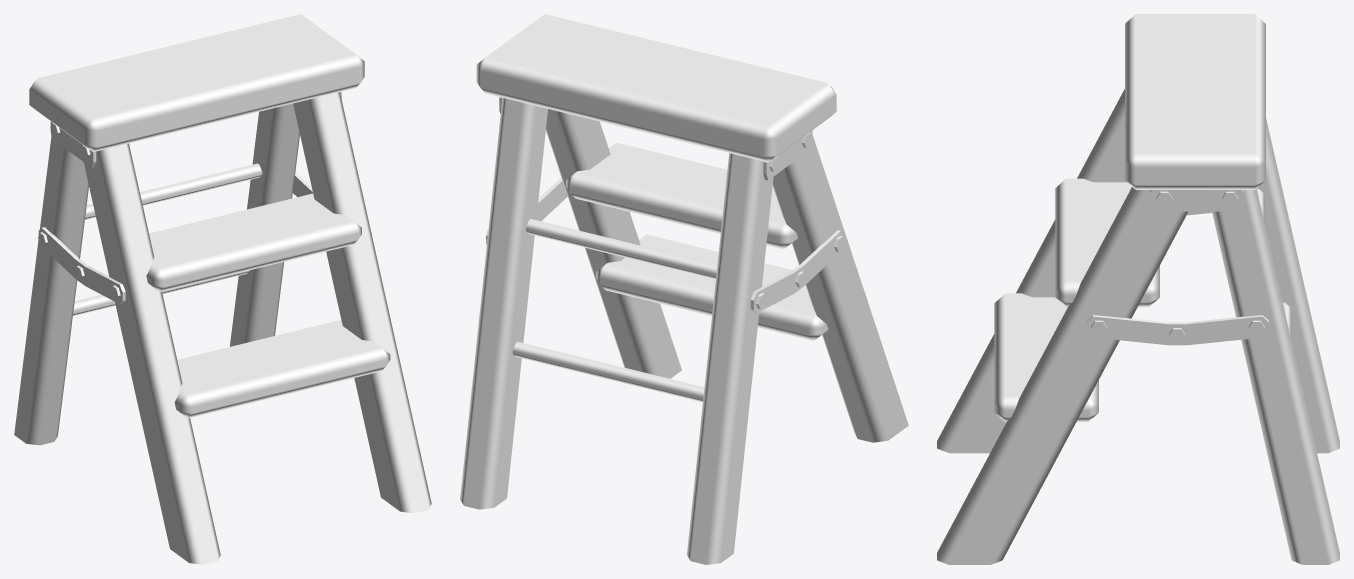
The model's file is StepLadder.fbx.
3 views of the same model, side by side, from view 1: azimuth 30°, elevation 25°; view 2: azimuth 150°, elevation 25°; view 3: azimuth 270°, elevation 25° (orthographic). The views are drawn at different scales.
Visible parts, largest first — view 1: StepLadder; view 2: StepLadder; view 3: StepLadder.
Boxes of the visible parts, <box> form: StepLadder: <box>14,14,431,564</box>; StepLadder: <box>460,14,908,564</box>; StepLadder: <box>937,14,1339,564</box>.
Bounding box in the file's own units: 96.92 × 127 × 111.
